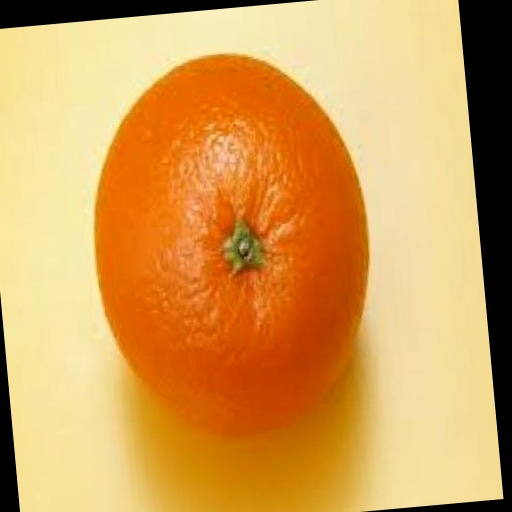fruit: (95, 56, 368, 434)
